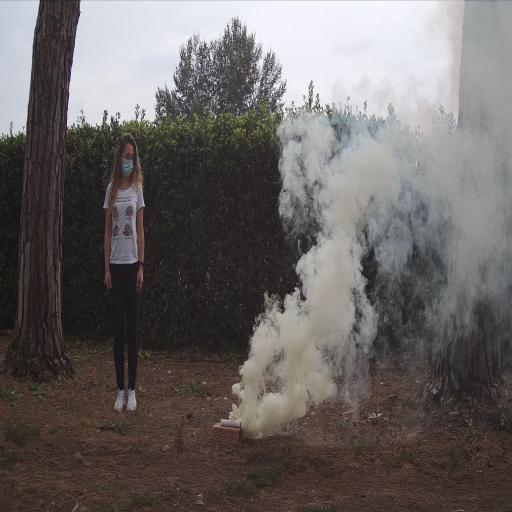leakage: (214, 1, 512, 454)
